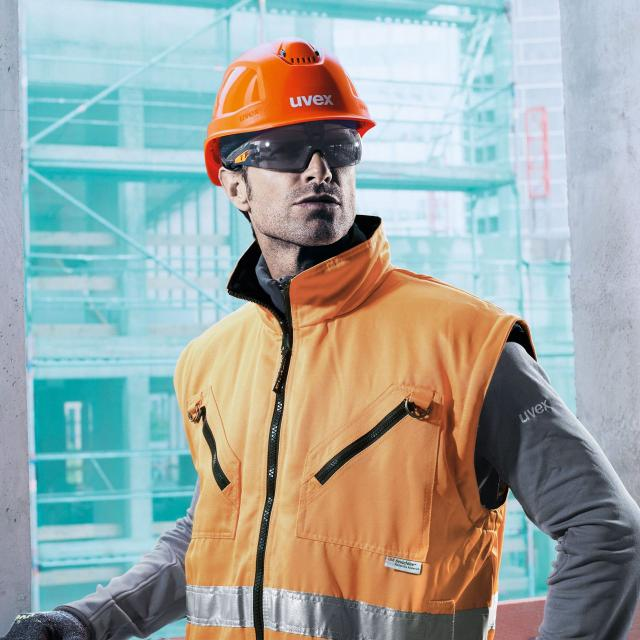Reflective-Jacket: (170, 236, 520, 640)
Safety-Helmet: (200, 33, 378, 151)
